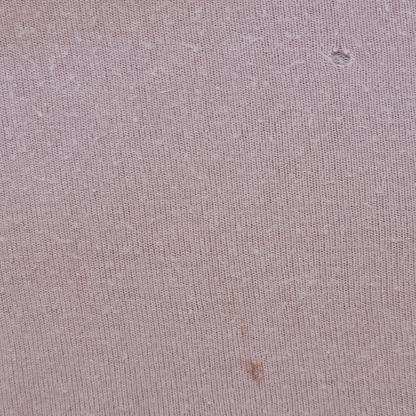spot: (234, 348, 279, 389)
